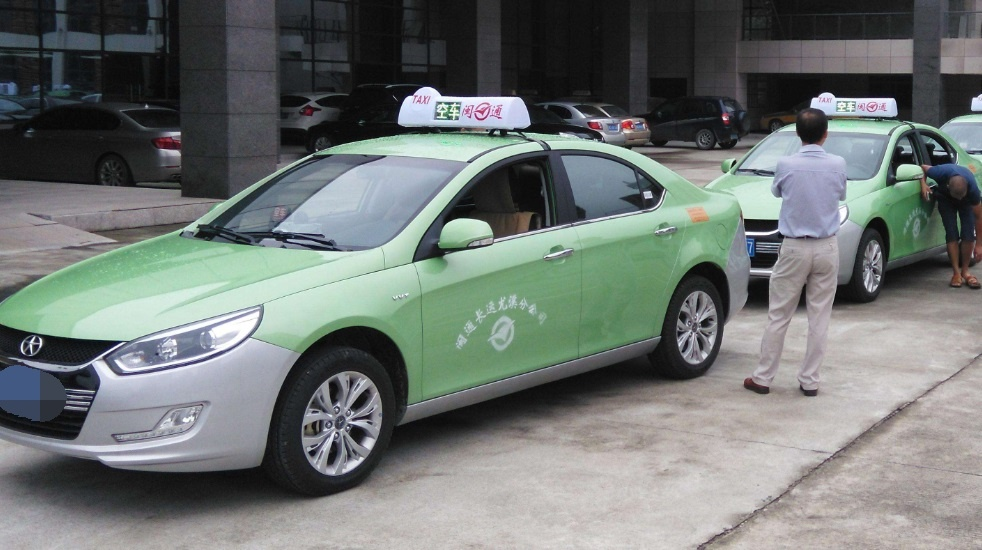taxi: (16, 87, 764, 453), (702, 89, 982, 292)
